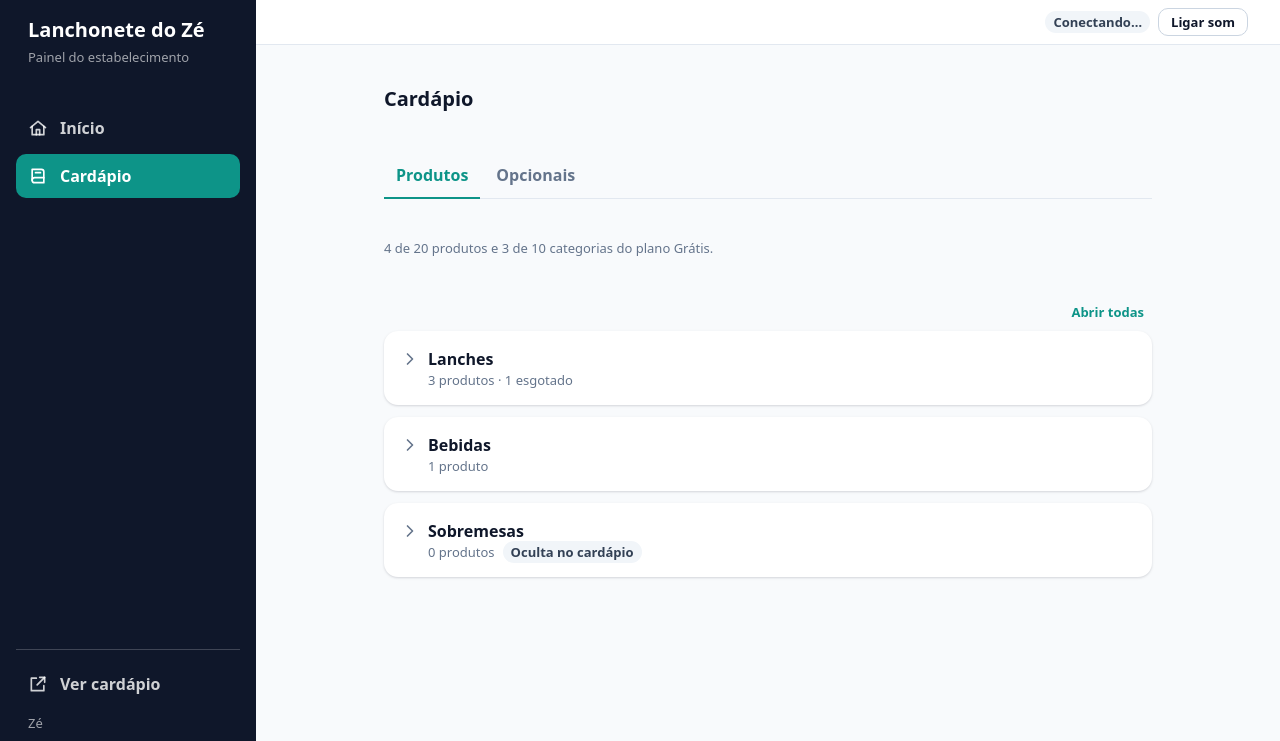
Test case: a lista do cardápio › quem só altera preços não tem a caixa do esgotado, e chega ao produto pelo lápis
Click the button with aria-label "Lanches,". click: (486,368)
box: 396,343 -> 577,393
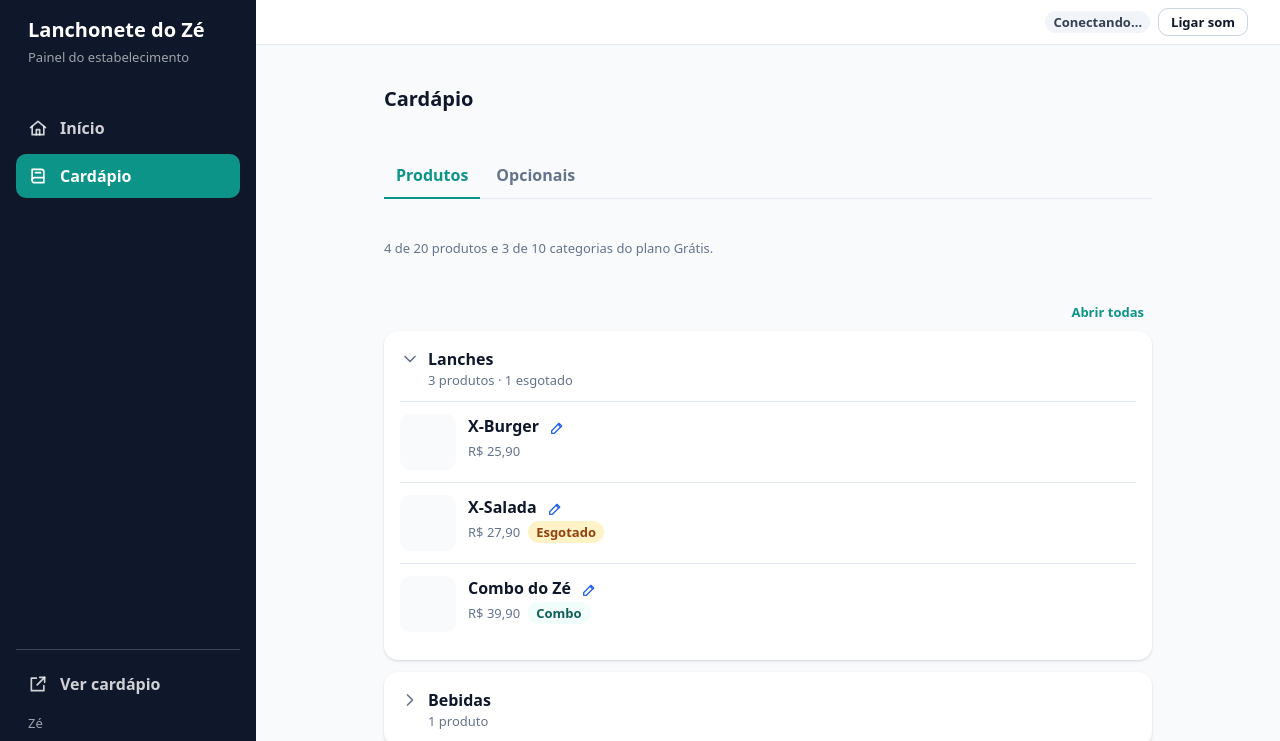
Check: the link named "Editar X-Burger" is shown, box 549,420 -> 565,436
